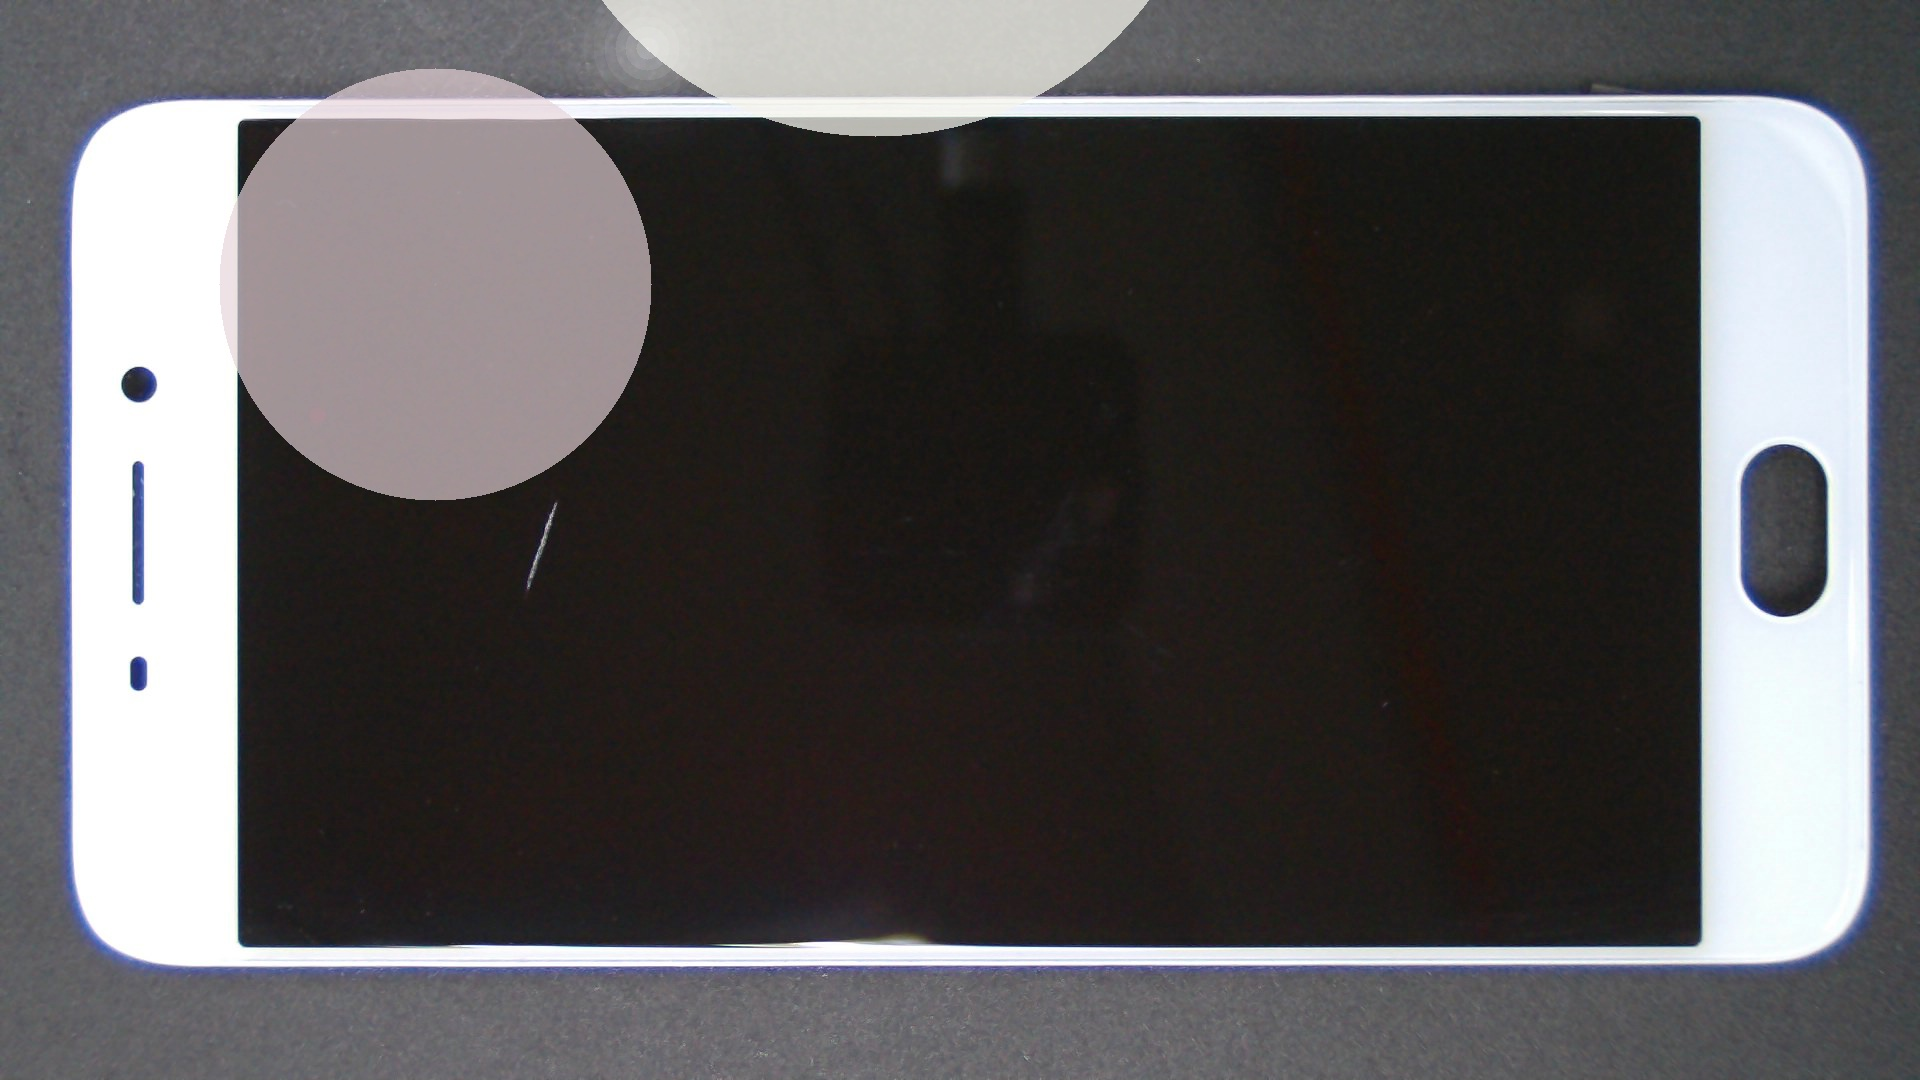oil: (277, 251, 831, 752)
